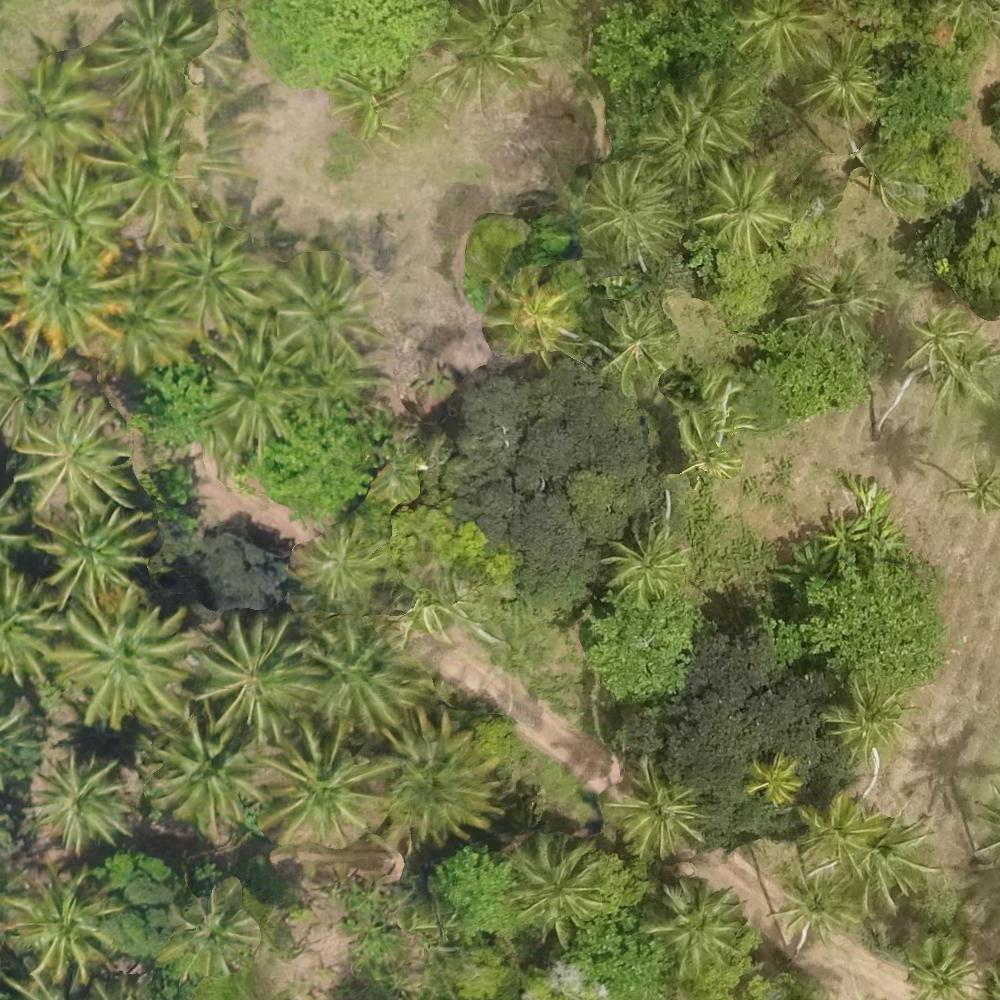Palm: (99, 110, 229, 240), (63, 598, 189, 725), (382, 724, 504, 850), (198, 616, 318, 742), (16, 395, 137, 519), (255, 736, 389, 847), (2, 245, 127, 362), (300, 622, 428, 735), (269, 248, 383, 369), (194, 335, 311, 448), (3, 872, 120, 983), (151, 232, 265, 343), (94, 5, 214, 108), (149, 739, 263, 842), (35, 507, 153, 601), (1, 62, 107, 166), (35, 749, 137, 851), (573, 162, 673, 265), (6, 161, 118, 251), (502, 846, 610, 932), (614, 768, 711, 863), (646, 883, 741, 979), (702, 157, 789, 257), (163, 892, 257, 978), (819, 672, 907, 761), (853, 822, 943, 909), (493, 267, 580, 354), (740, 1, 835, 78), (772, 868, 862, 948), (799, 36, 884, 118), (298, 523, 385, 602), (798, 258, 883, 336), (670, 67, 748, 148), (598, 301, 674, 382), (800, 791, 878, 868), (602, 525, 684, 597), (905, 935, 977, 1000), (749, 754, 803, 814)
